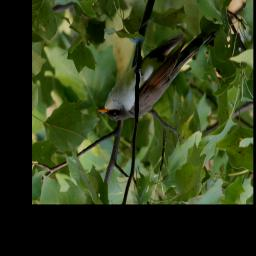Cuckoo: (98, 30, 220, 124)
